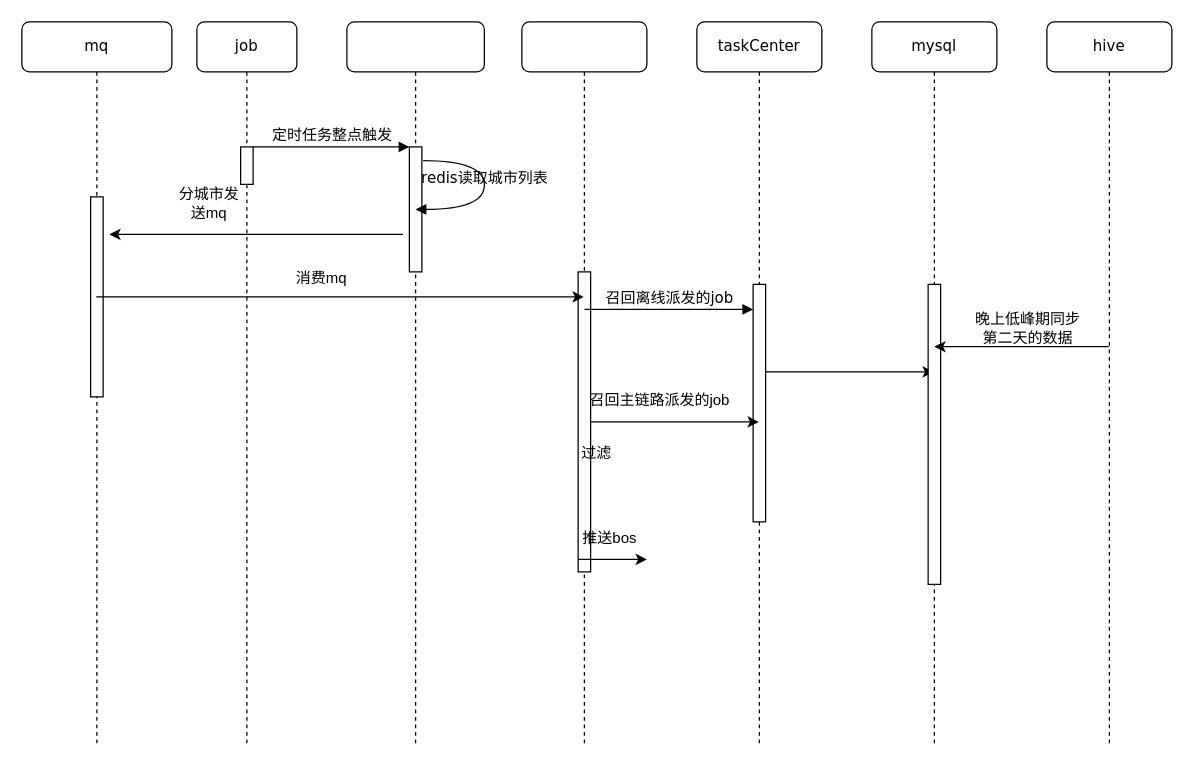
This 1194x769 diagram has some shape labels left out. The box of each missing label's shape, as (x1, y1, x2, y2) in pixels:
normandyCallback: (346, 21, 484, 747)
strategyEngine: (521, 21, 647, 747)
